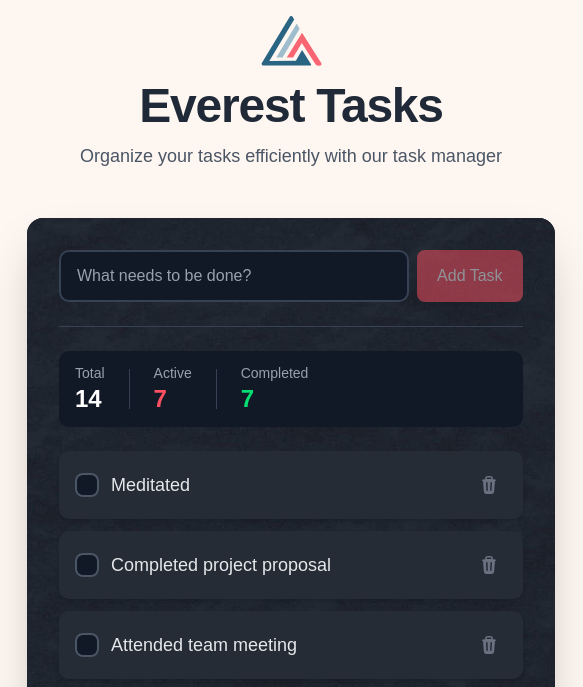
Scenario: Todo App Integration Test (Dirty Data) › should allow user to add a new todo
expect the text "Meditated" is shown: met, box [111, 471, 190, 499]
In the field with placeholder "What needs to be done?": (234, 276) [59, 250, 409, 302], type "New test task"
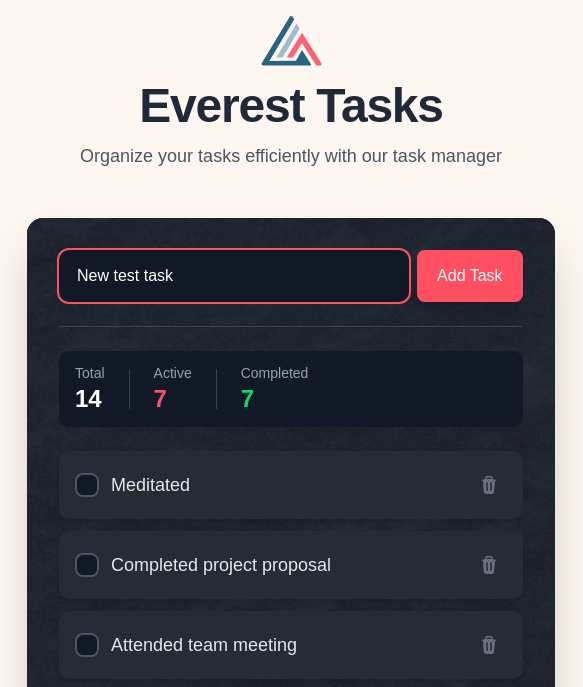
Click the button "Add Task": (470, 276) [417, 250, 523, 302]
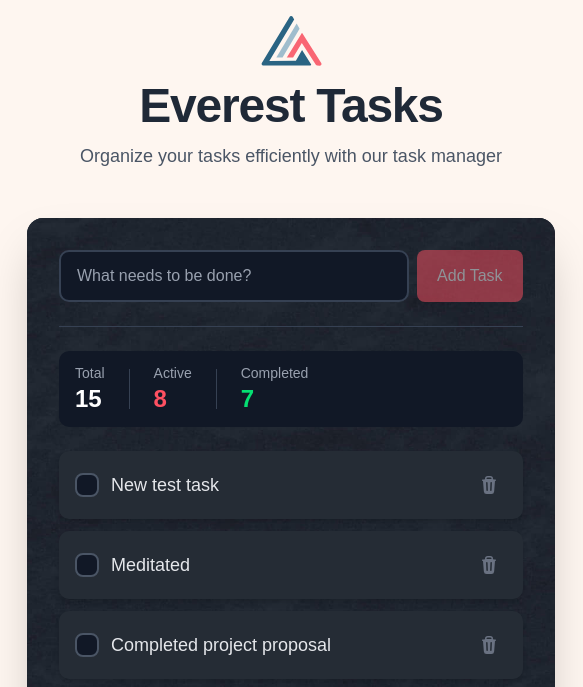
expect the list item "New test task" is shown: met, box [59, 451, 523, 519]
expect the number of list items is 15: met
expect the field with placeholder "What needs to be done?" is empty: met, box [59, 250, 409, 302]
